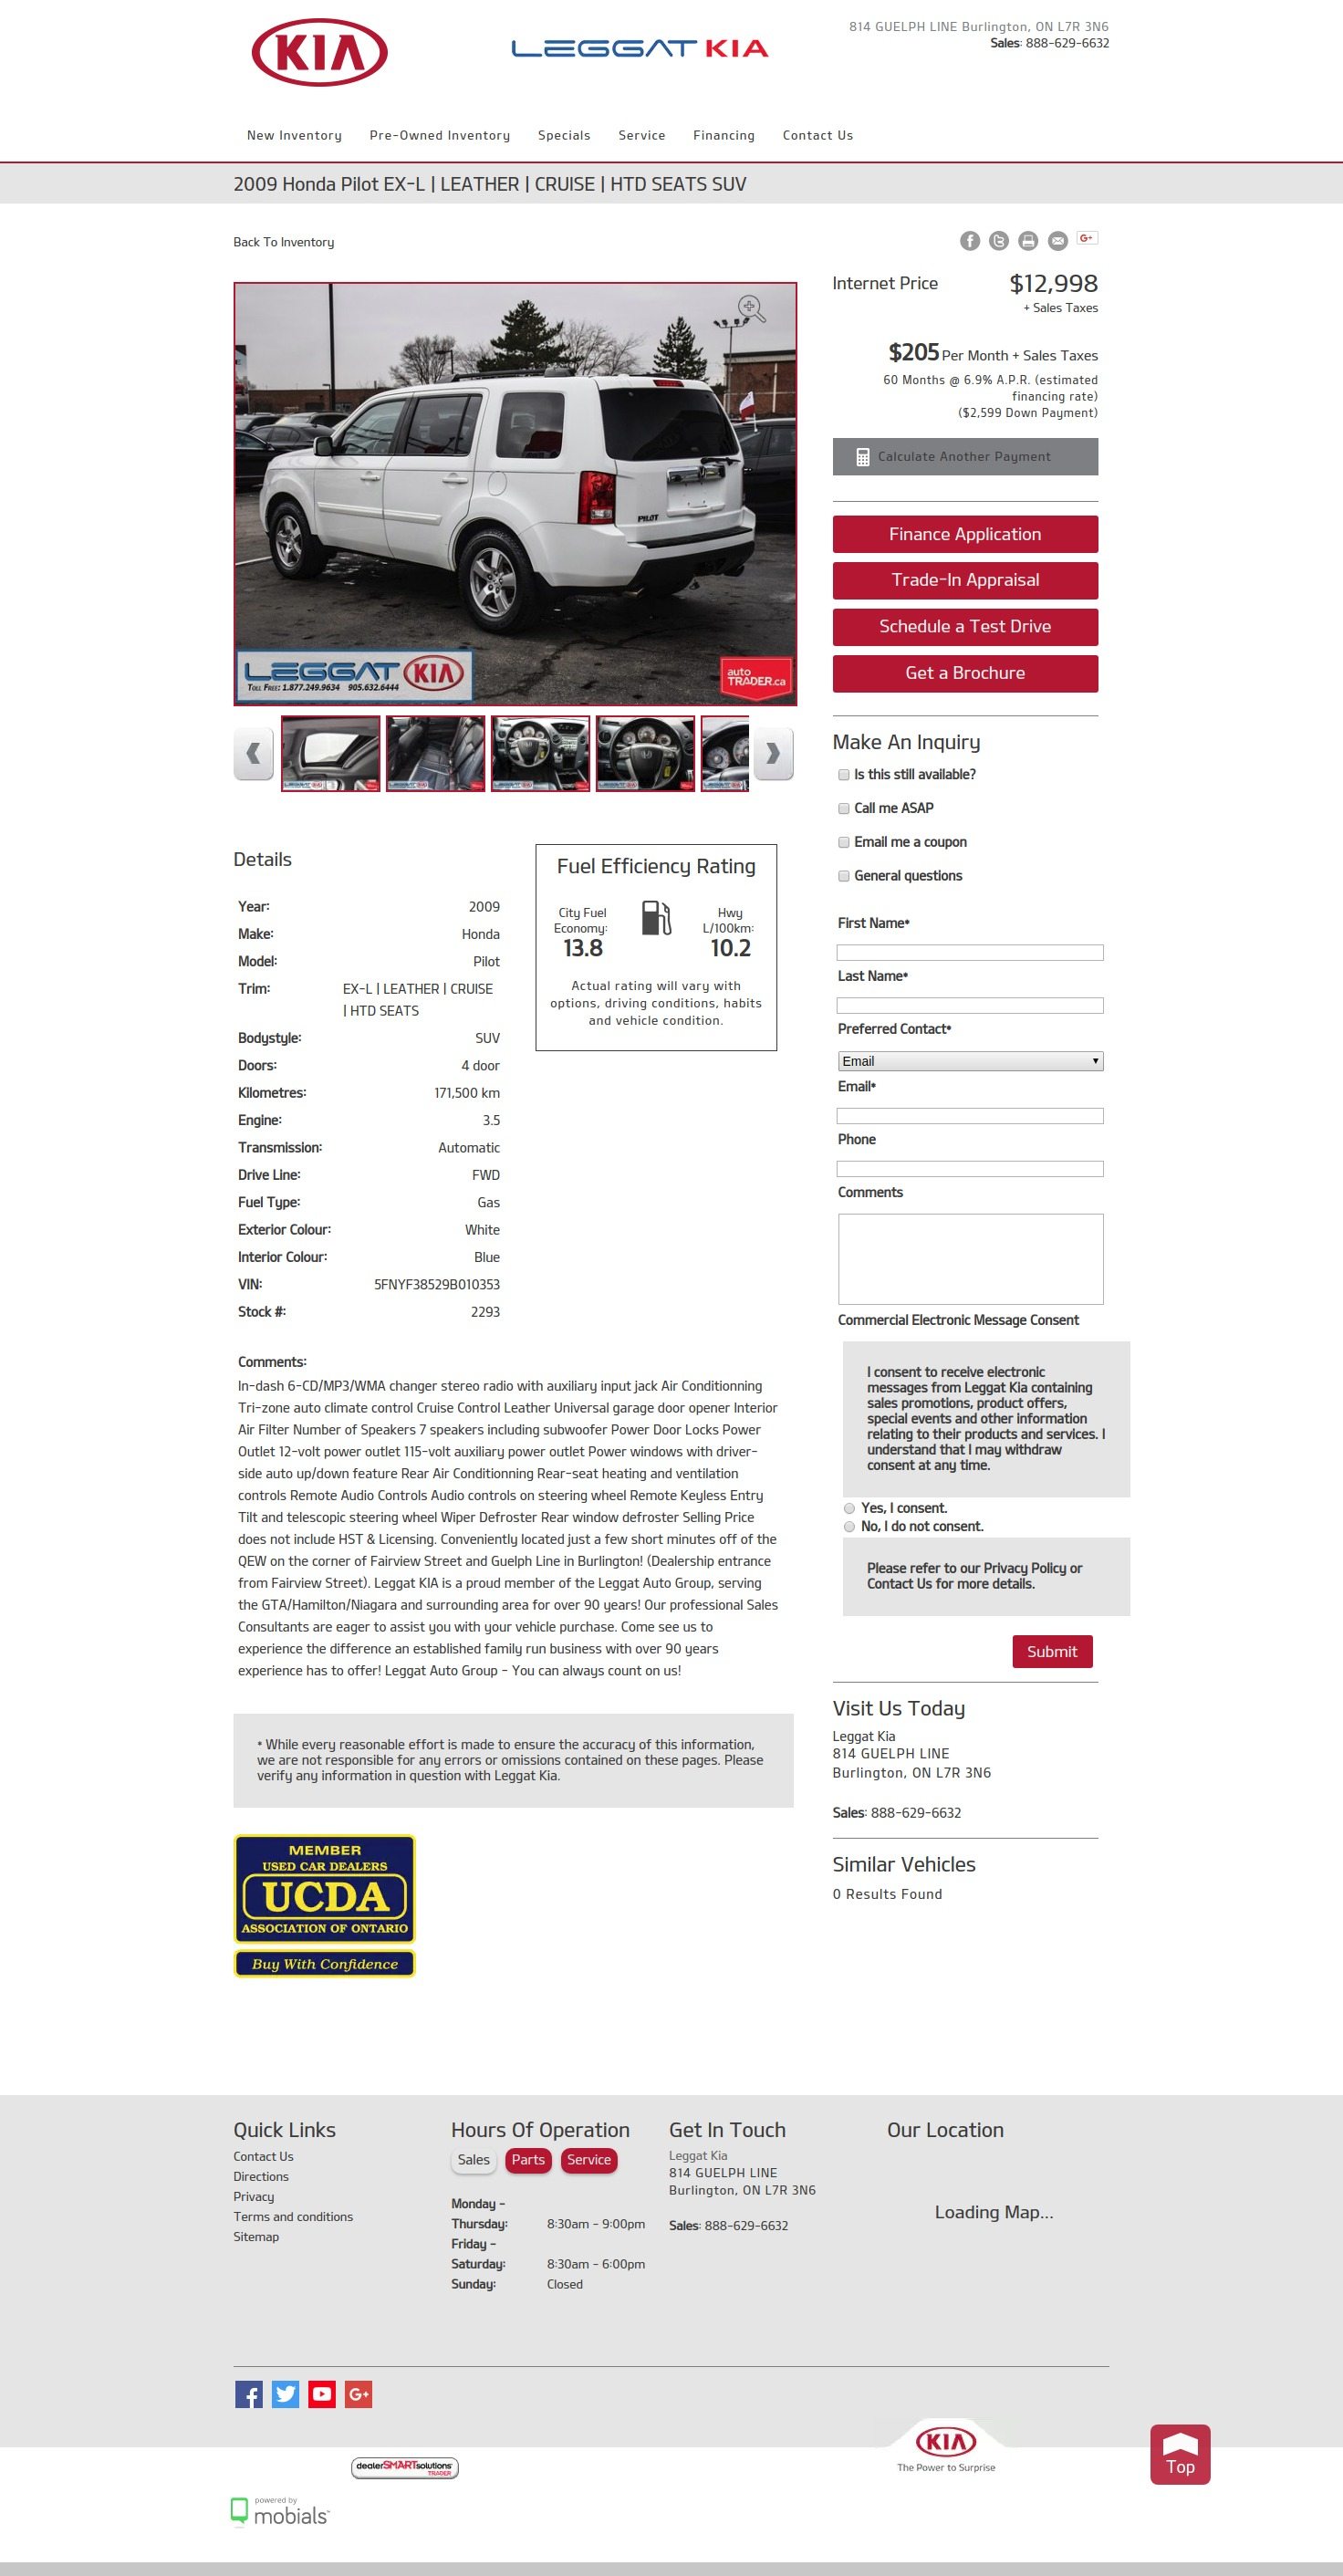car: (767, 741, 782, 767)
